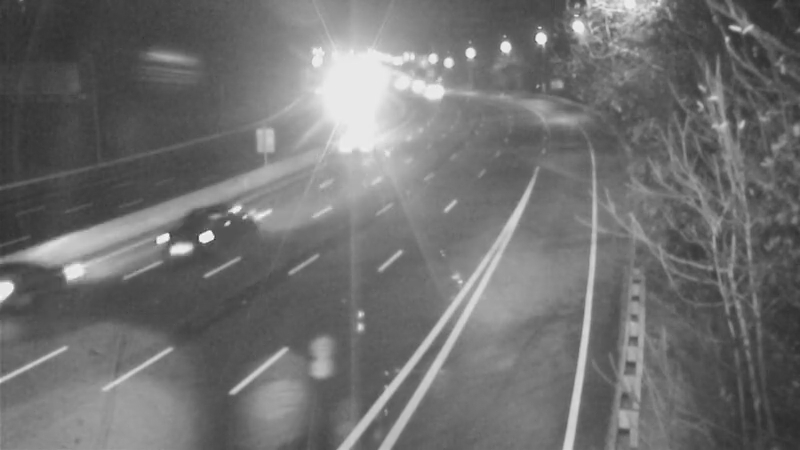vehicle: (154, 194, 234, 274), (1, 250, 73, 330), (408, 68, 458, 118), (346, 116, 396, 166)
